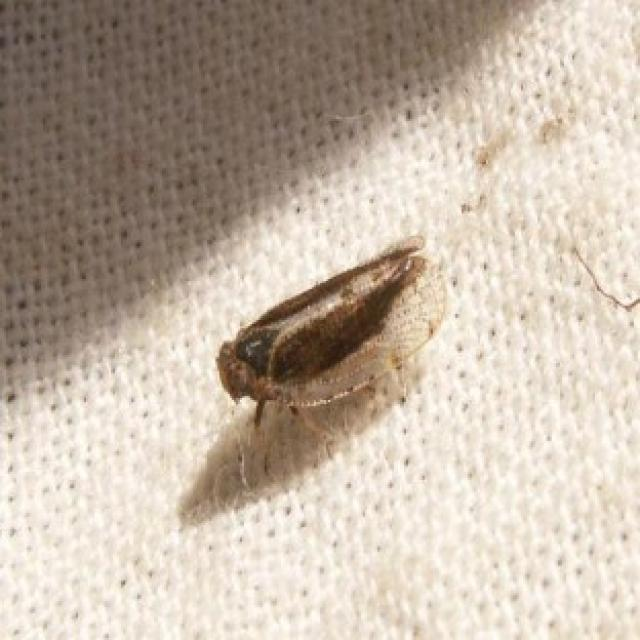brown plant hopper: (215, 238, 443, 425)
